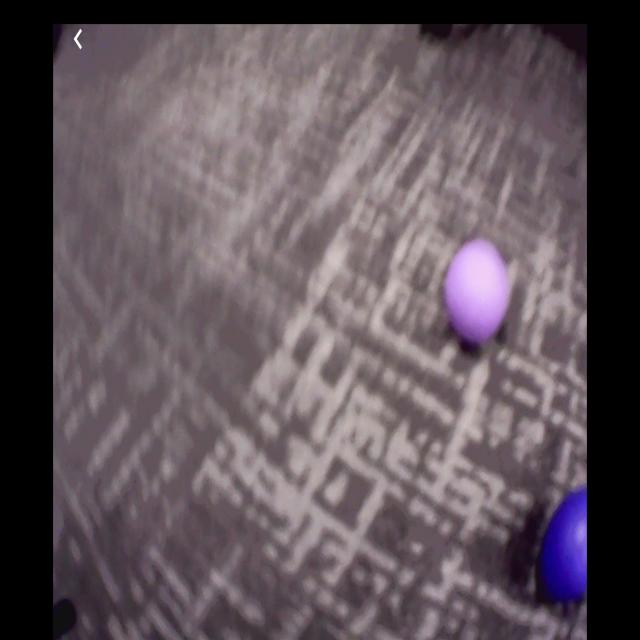ball: (449, 237, 507, 338), (546, 491, 589, 602)
